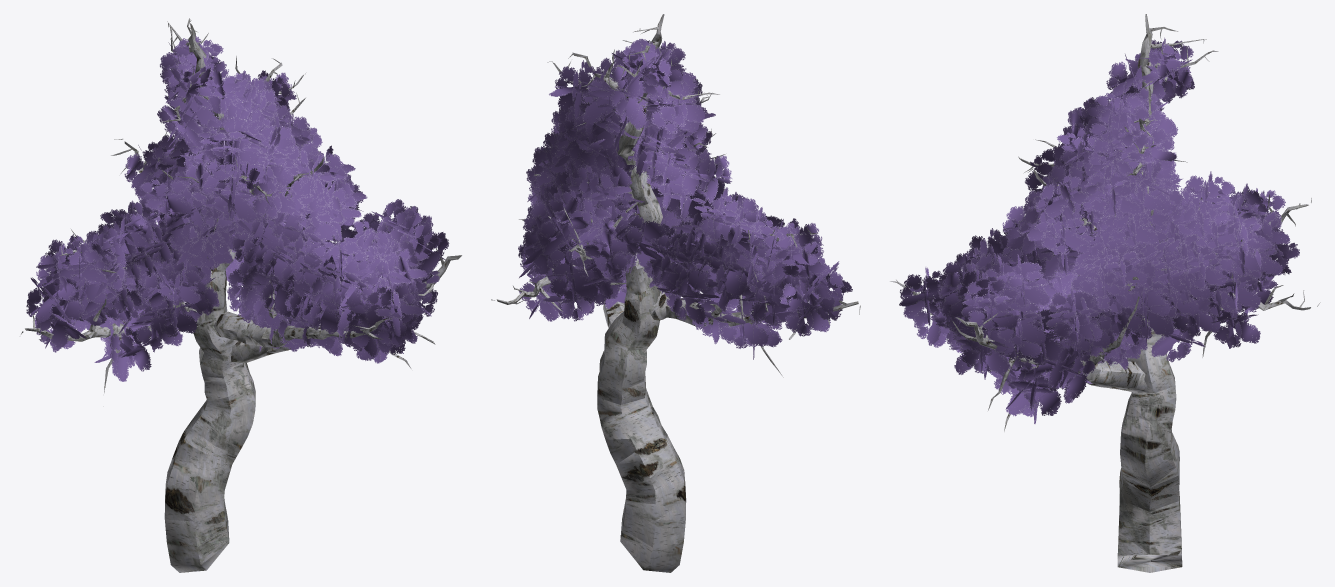
File: tree_w_material 7.fbx
3 renders of one model, left to right at view 1: azimuth 30°, elevation 25°; view 2: azimuth 150°, elevation 25°; view 3: azimuth 270°, elevation 25°, orthographic. The views are drawn at different scales.
Visible parts, largest first — view 1: geo1; view 2: geo1; view 3: geo1.
Part boxes in pixels (x1,y1,x2,y2): geo1: [21, 18, 461, 572]; geo1: [491, 14, 860, 572]; geo1: [890, 14, 1320, 572].
Size of the model in its own units: 681 by 951 by 660.
